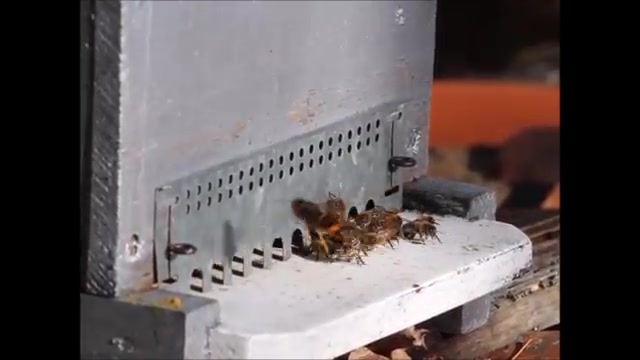bee: (403, 221, 439, 242), (366, 210, 401, 231)
hornet: (291, 201, 350, 241)
